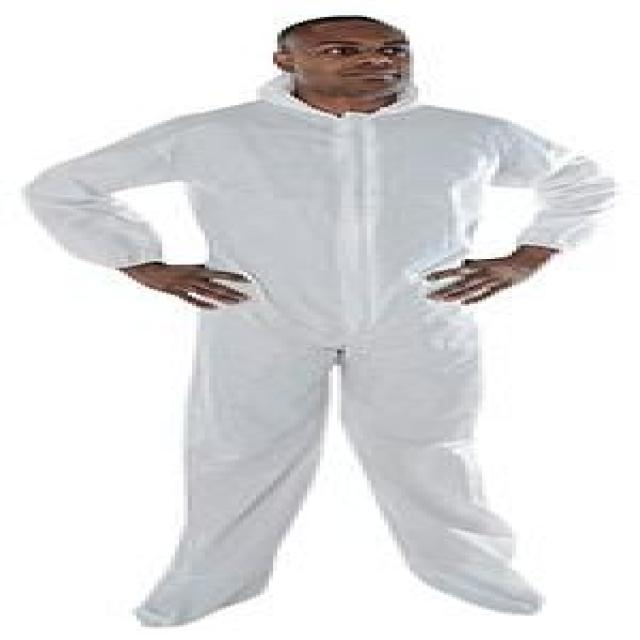Coverall: (17, 11, 614, 623)
